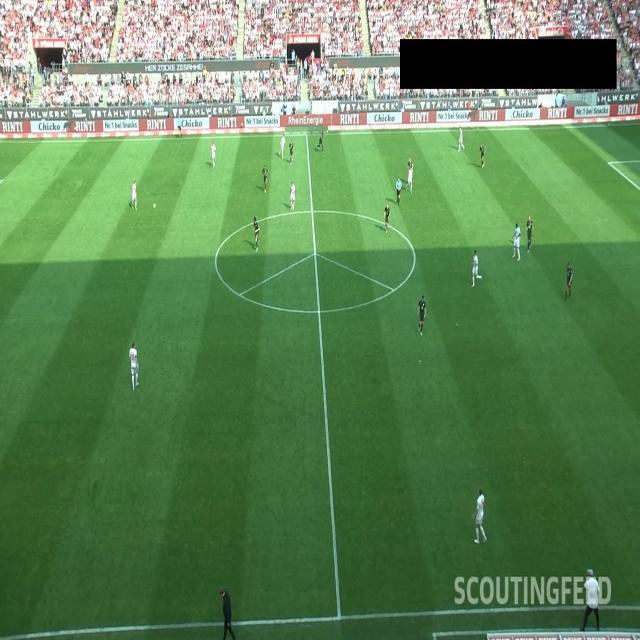ball: (152, 202, 156, 209)
